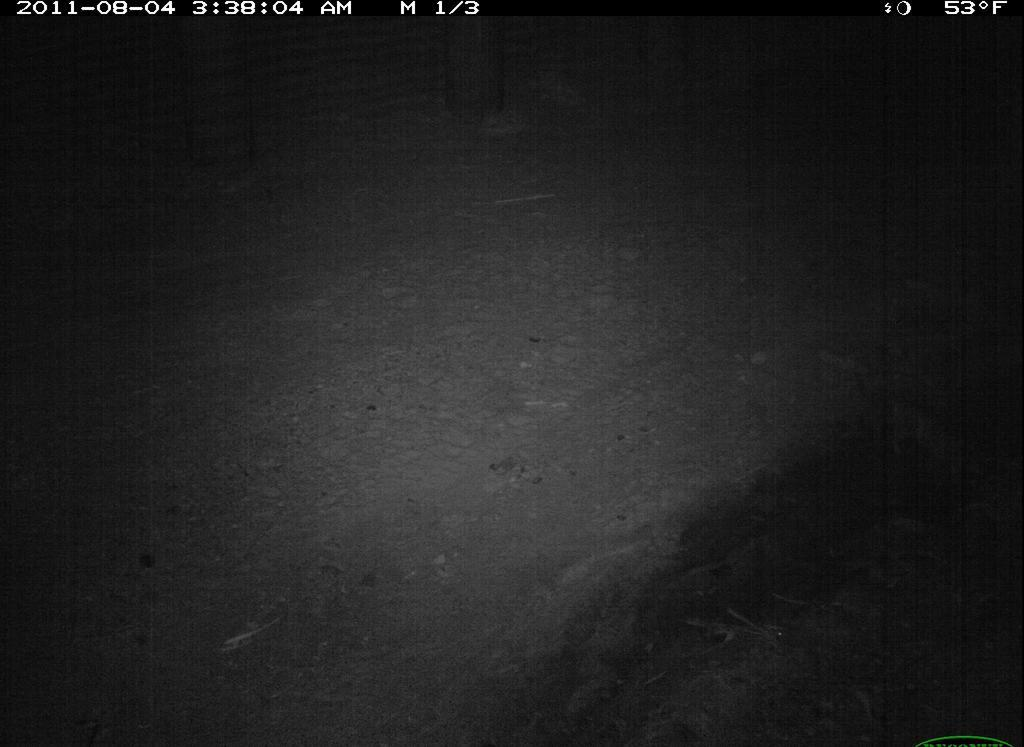cat: (869, 381, 999, 498)
